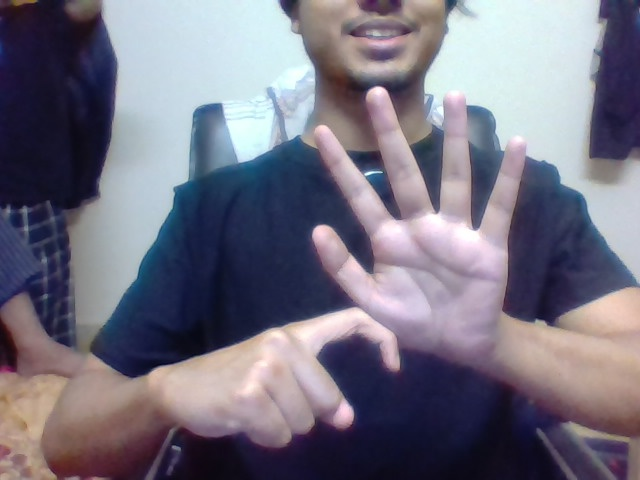R: (309, 306, 402, 431)
